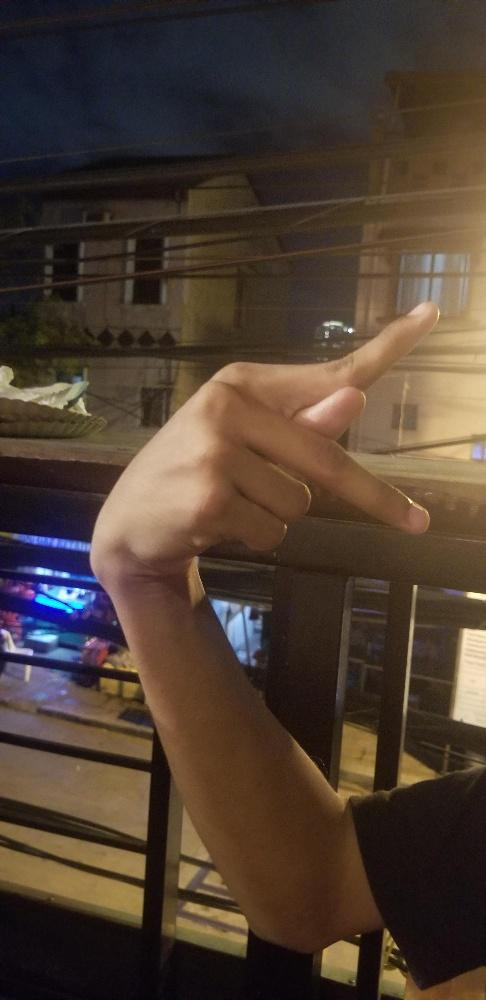k: (88, 298, 440, 562)
